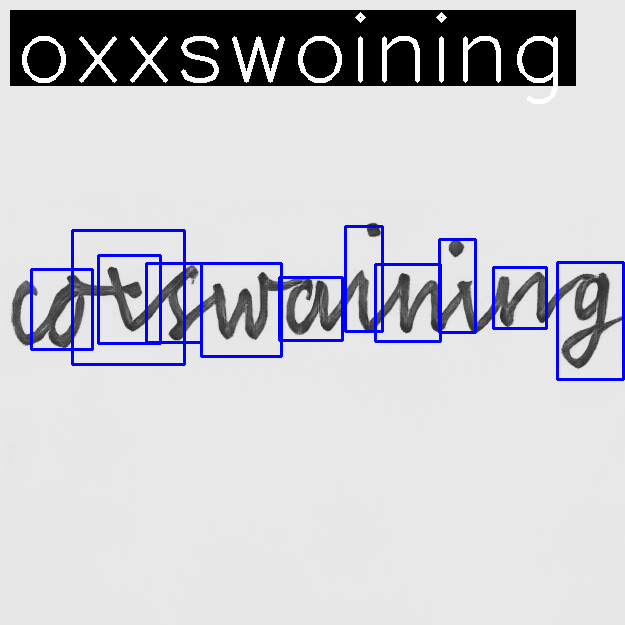a: (282, 274, 335, 339)
c: (8, 278, 41, 347)
g: (559, 268, 612, 372)
i: (353, 220, 384, 334), (448, 239, 481, 337)
n: (394, 268, 445, 337), (493, 270, 548, 328)
o: (43, 276, 91, 350)
s: (158, 263, 201, 343)
w: (209, 272, 273, 341)
x: (96, 263, 146, 333)
